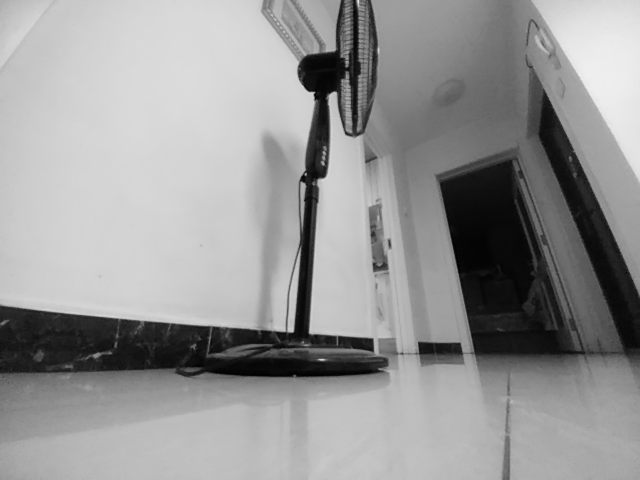bar stool: (201, 328, 393, 378)
